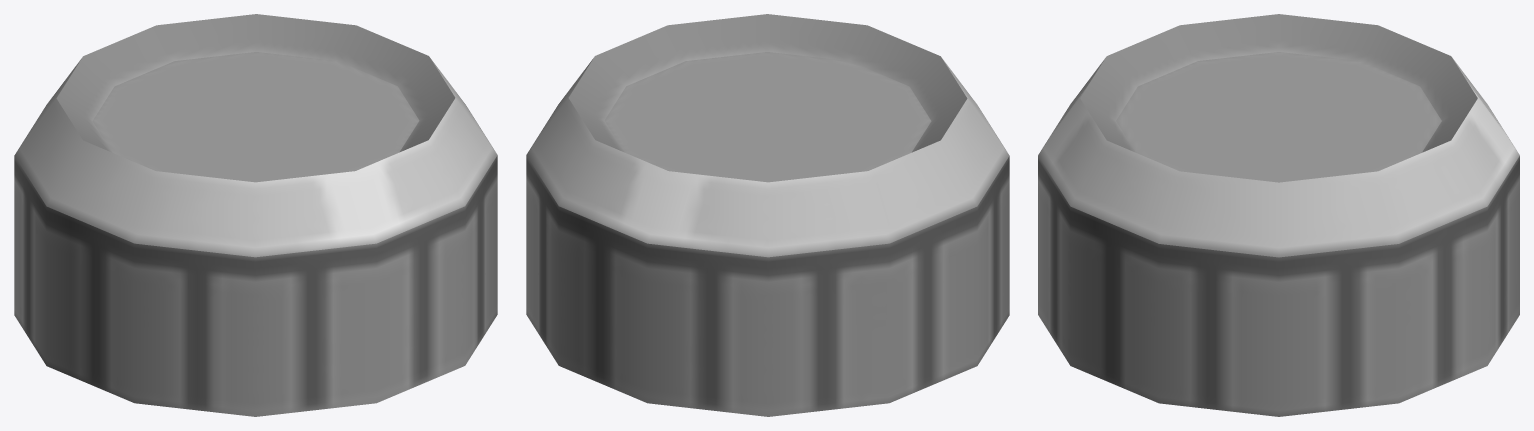
The model's file is Wine Cap.glb.
3 views of the same model, side by side, from view 1: azimuth 30°, elevation 25°; view 2: azimuth 150°, elevation 25°; view 3: azimuth 270°, elevation 25° (orthographic).
Visible parts, largest first — view 1: SkillObj_Varka_Wine_Cap_LOD0; view 2: SkillObj_Varka_Wine_Cap_LOD0; view 3: SkillObj_Varka_Wine_Cap_LOD0.
Part boxes in pixels (x1,y1,x2,y2): SkillObj_Varka_Wine_Cap_LOD0: (14,14,497,416); SkillObj_Varka_Wine_Cap_LOD0: (526,14,1009,416); SkillObj_Varka_Wine_Cap_LOD0: (1038,14,1519,416).
Size of the model in its own units: 0.032 by 0.0162 by 0.0319.
Materials: 1 (1 with a texture image).
